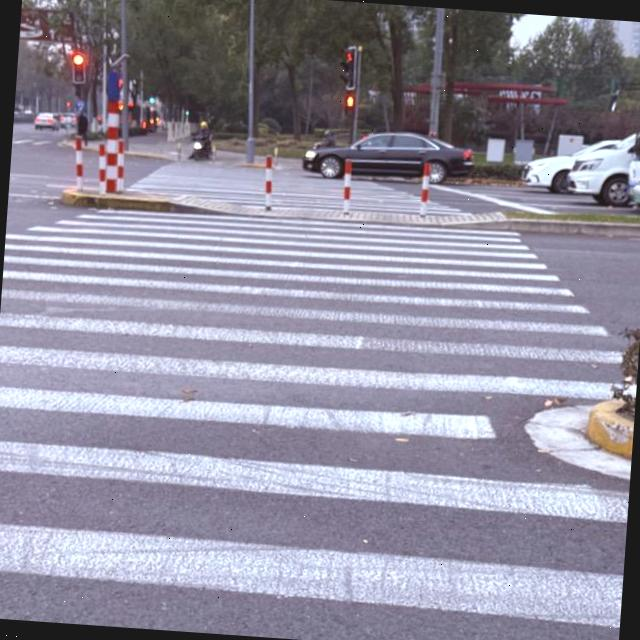curb: (60, 188, 213, 211), (468, 218, 640, 238), (585, 398, 633, 458), (450, 177, 522, 185), (125, 149, 176, 160), (236, 163, 264, 167)
